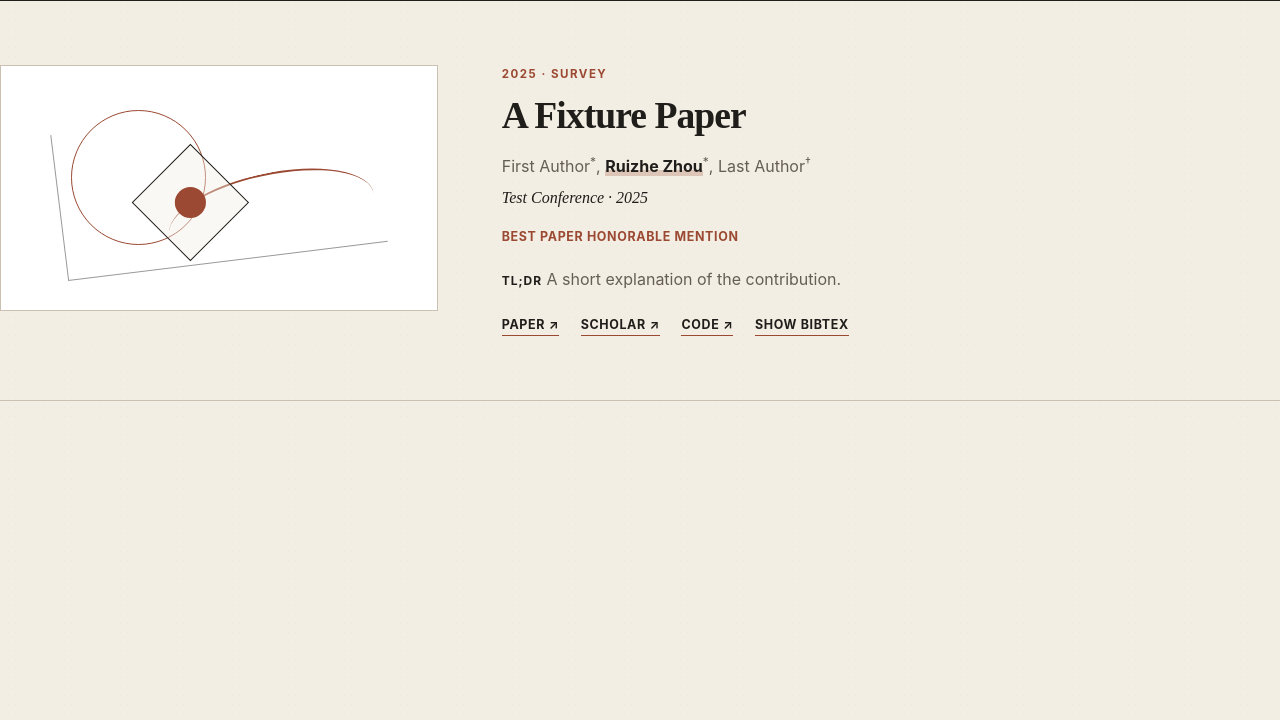
Test: publication archive › discloses and copies BibTeX with polite confirmation
Click the button "Show BibTeX" at (802, 326), box left=755, top=315, right=849, bottom=336
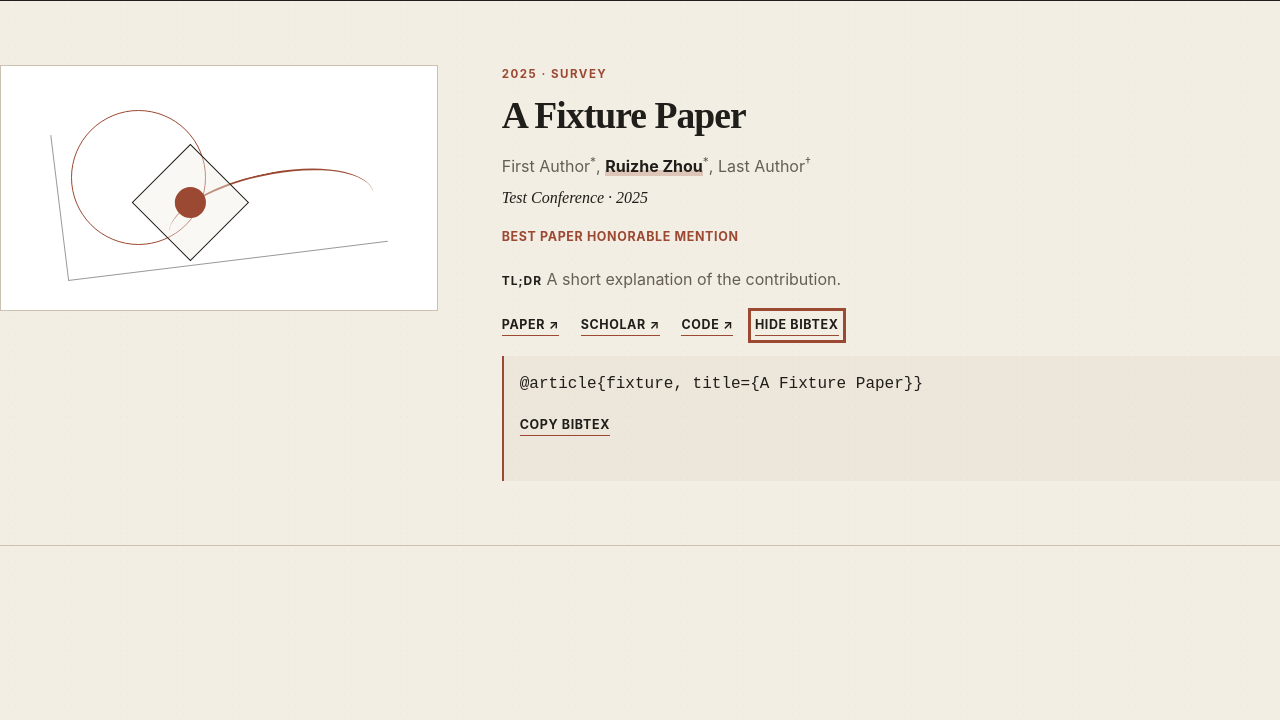
Expected: the text "@article{fixture, title={A Fixture Paper}}" is shown, left=520, top=375, right=923, bottom=393
Click the button "Copy BibTeX" at (565, 425), box left=520, top=415, right=610, bottom=436
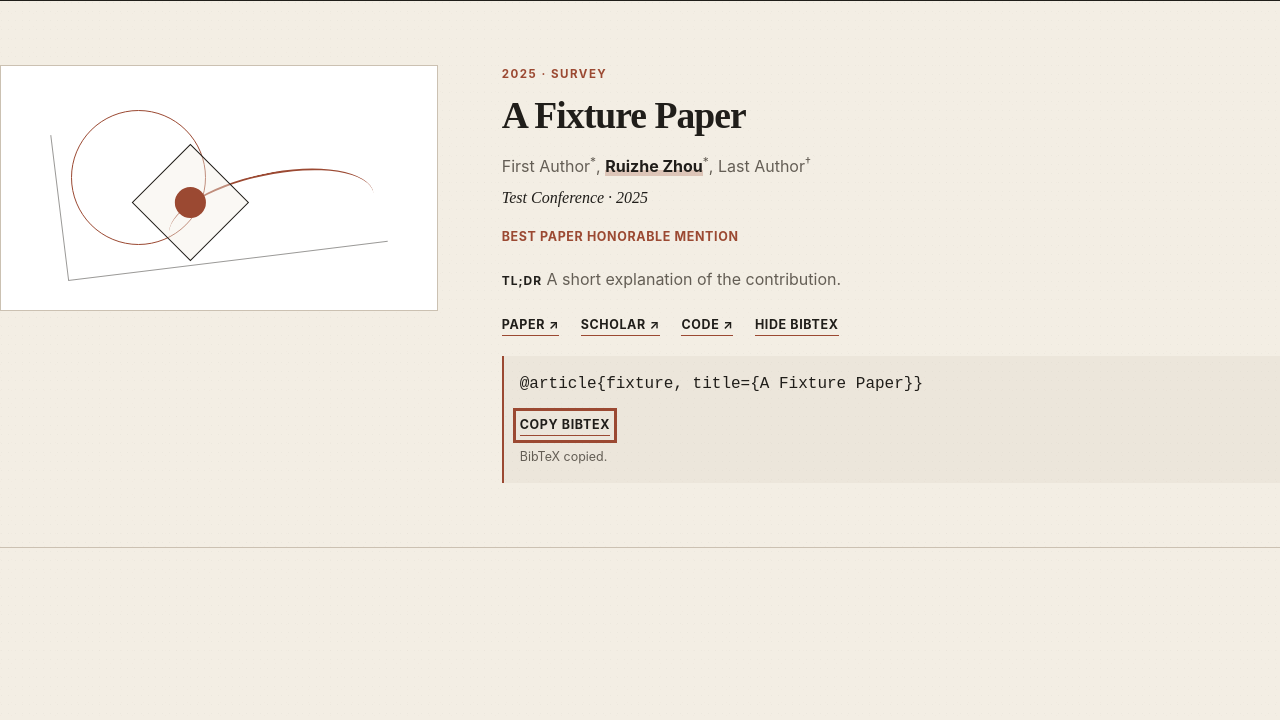
Expected: the message reads "BibTeX copied.", left=520, top=449, right=607, bottom=464
